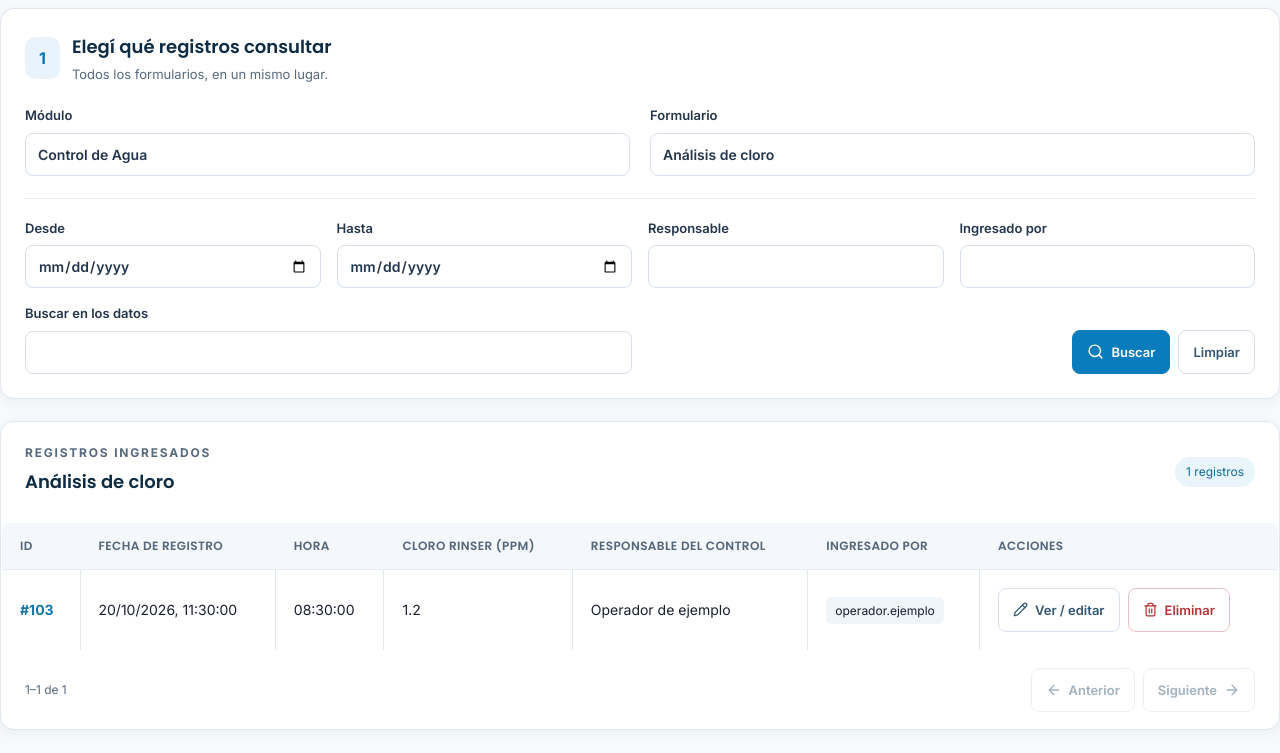
Test: retains the row when deletion fails and sends its version
(page scrolled)
Click the button with aria-label "Eliminar registro #103": (1179, 610) top-left (1128, 588), bottom-right (1230, 632)
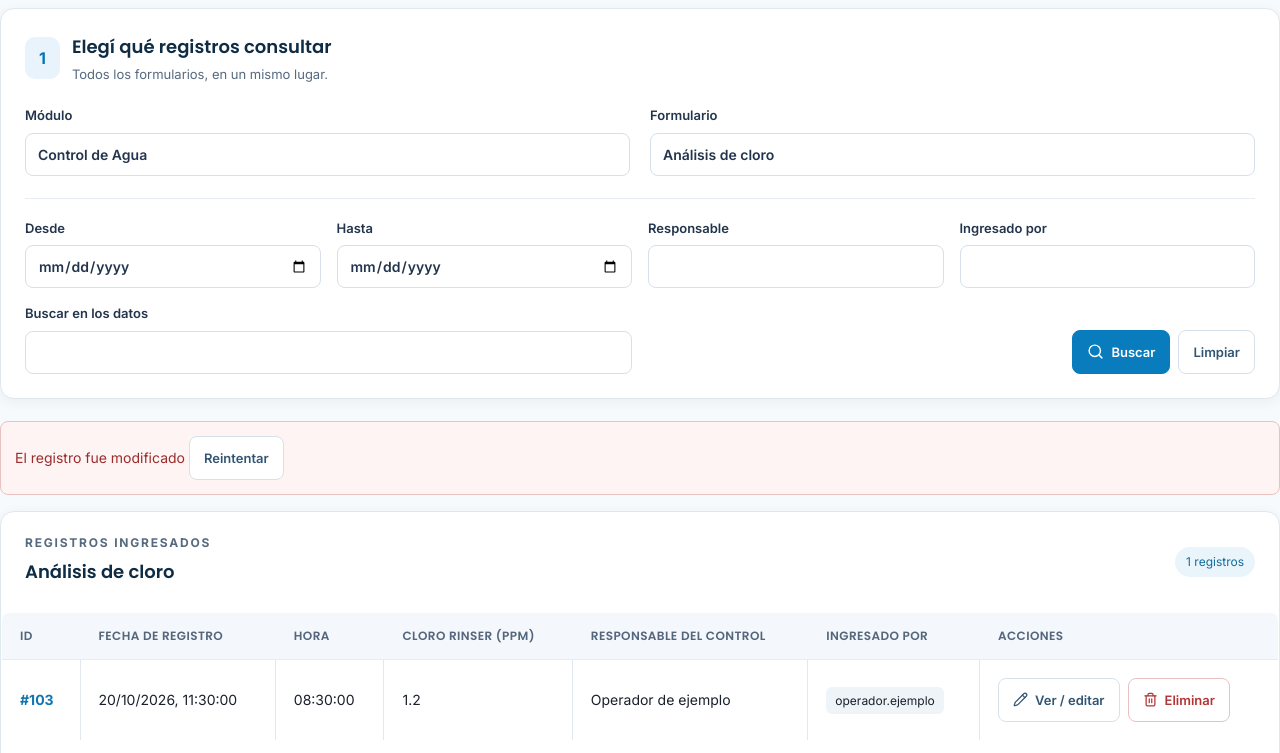
Expected: the button with aria-label "Eliminar registro #103" is enabled, top-left (1128, 678), bottom-right (1230, 722)
Now the message shows "El registro fue modificado", box top-left (15, 448), bottom-right (185, 466)
